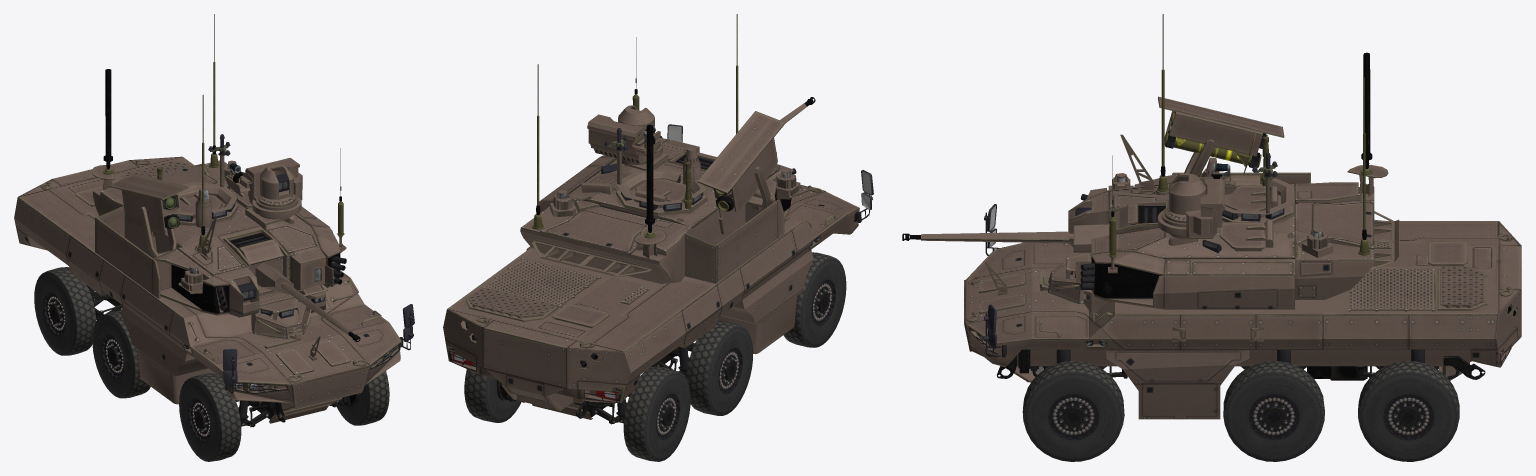
Rendered from jaguar-ebrc-infantry.glb.
The picture shows the model from 3 angles, left to right: view 1: azimuth 30°, elevation 25°; view 2: azimuth 150°, elevation 25°; view 3: azimuth 270°, elevation 25°; orthographic projection. The views are drawn at different scales.
Visible parts, largest first — view 1: Object_2; view 2: Object_2; view 3: Object_2.
Part boxes in pixels (left/top/right/bottom): Object_2: left=14, top=14, right=414, bottom=461; Object_2: left=443, top=14, right=873, bottom=461; Object_2: left=902, top=14, right=1521, bottom=461.
Size of the model in its own units: 3.22 by 5.23 by 7.78.
1 material, 1 textured.
